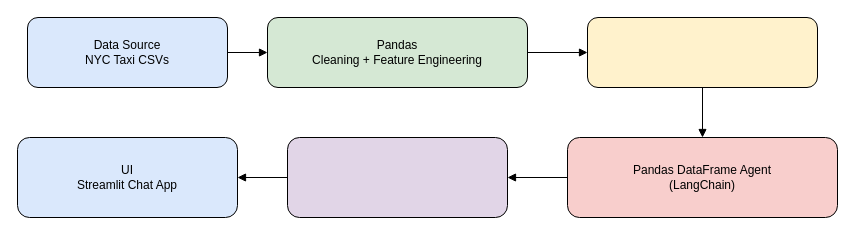
This 855x235 diagram has some shape labels left out. Here are the shapes that lost their labels. From the top down, the box of each, then its label:
(586, 16, 818, 88): SQLite Analytical SQL Layer
(286, 136, 508, 218): LLM SambaNova / Llama 3
